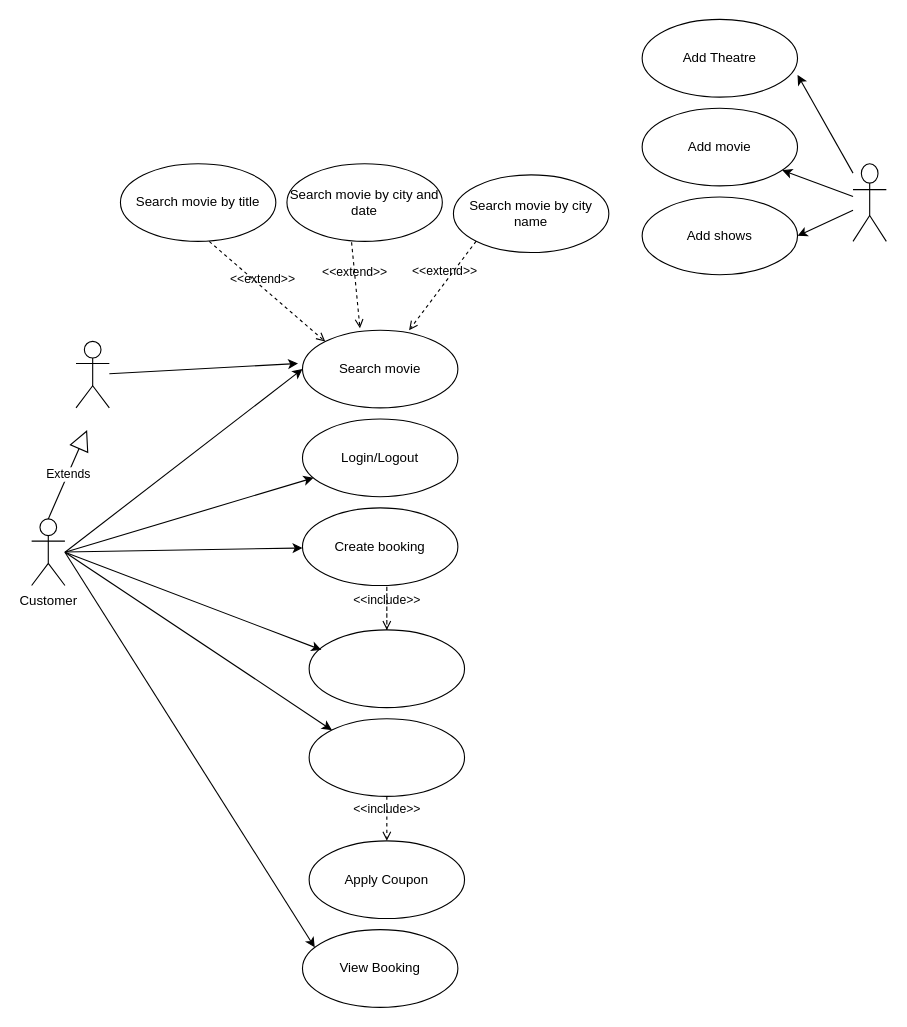
Some shapes in this 907 by 1027 pixel diagram are drawn without their labels. Each missing label, with the centre of its shape:
"admin" goes at point 869,202.
"Guest" goes at point 92,374.
"Make payment" goes at point 386,757.
"Select seat" goes at point 386,668.
